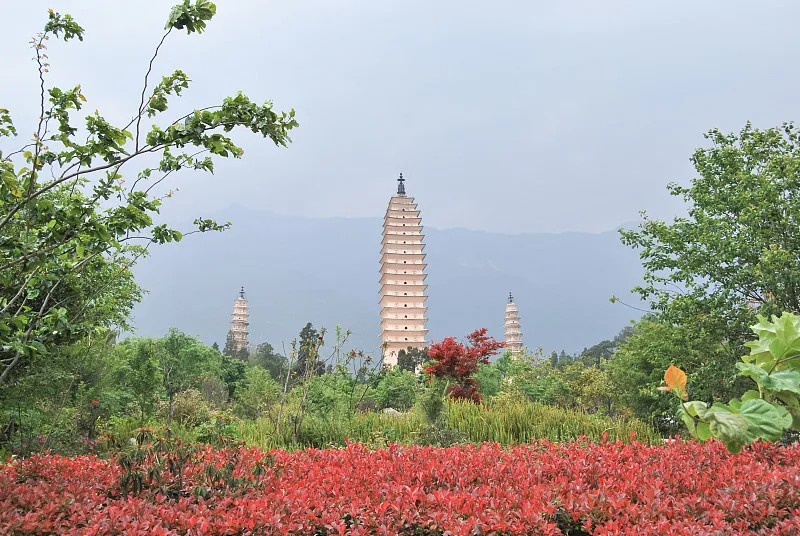ThreePagoda: (378, 171, 428, 367)
